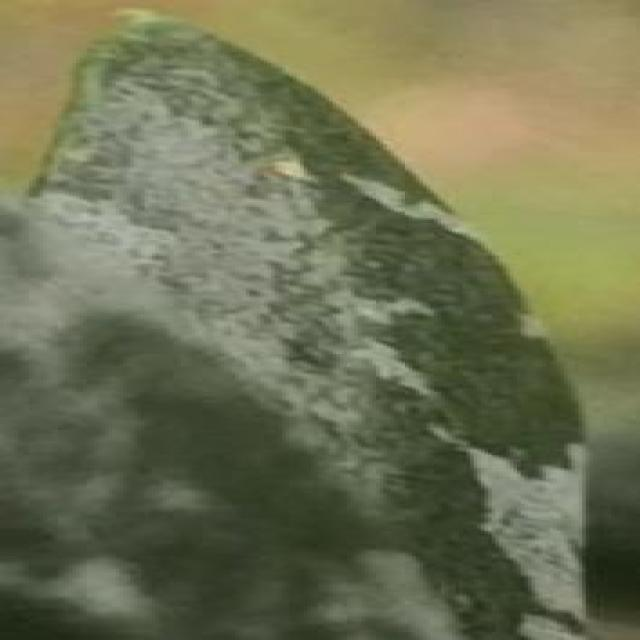Peacock Eye: (40, 14, 582, 638)
